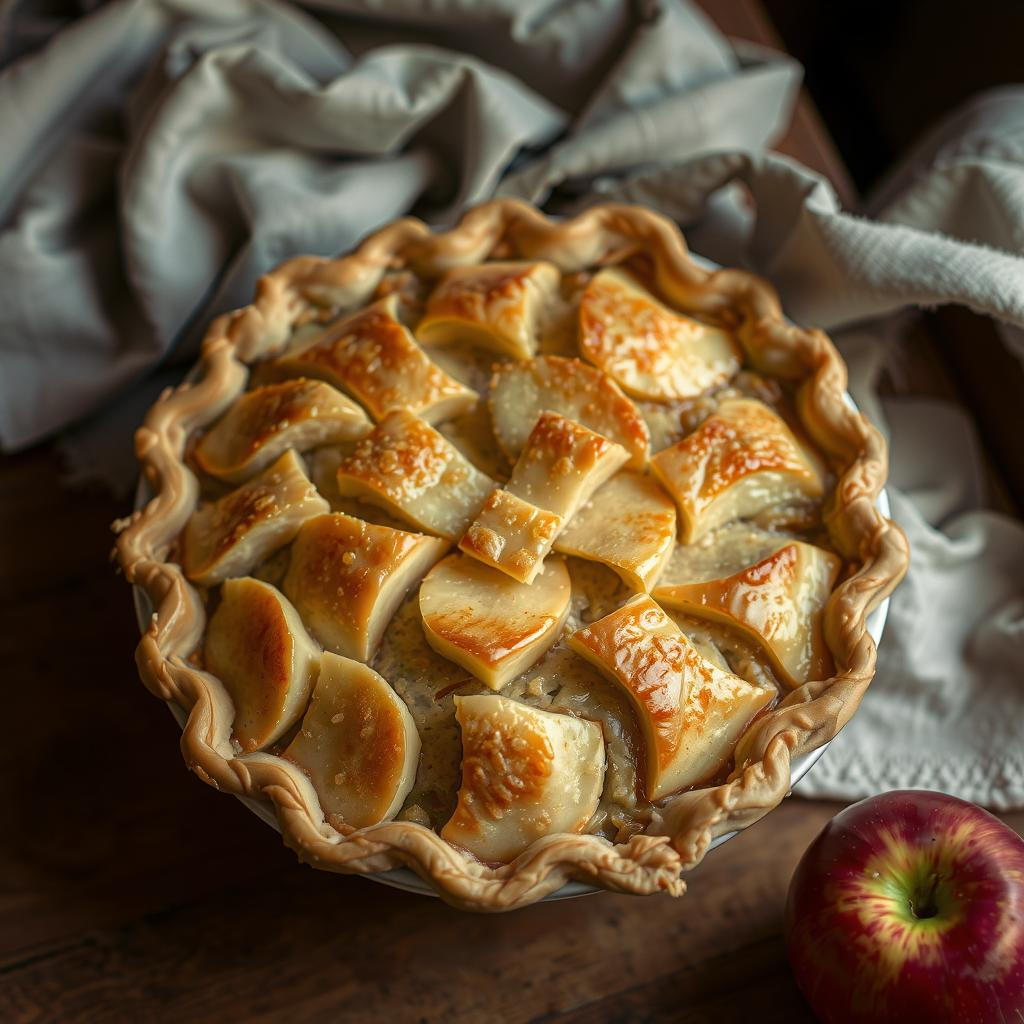pie: (94, 187, 916, 916)
